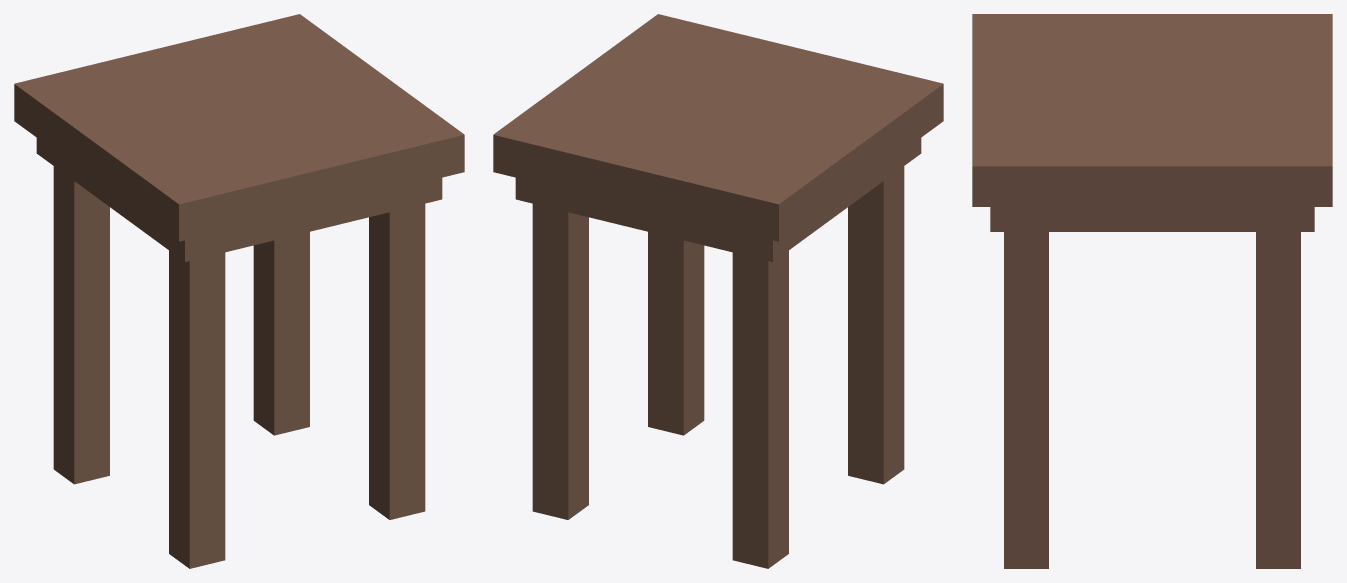
Rendered from stool.glb.
The picture shows the model from 3 angles, left to right: view 1: azimuth 30°, elevation 25°; view 2: azimuth 150°, elevation 25°; view 3: azimuth 270°, elevation 25°; orthographic projection. The views are drawn at different scales.
Visible parts, largest first — view 1: stool; view 2: stool; view 3: stool.
Part boxes in pixels (bbox=[...]): stool: bbox=[14, 14, 464, 568]; stool: bbox=[493, 14, 943, 568]; stool: bbox=[972, 14, 1332, 568].
Bounding box in the file's own units: 0.4 × 0.51 × 0.4.
